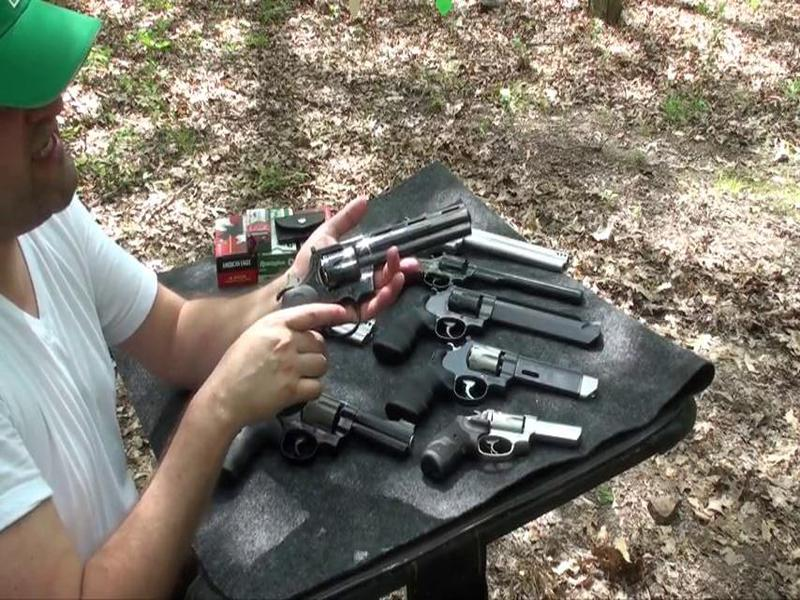Revolver: (280, 199, 472, 348)
